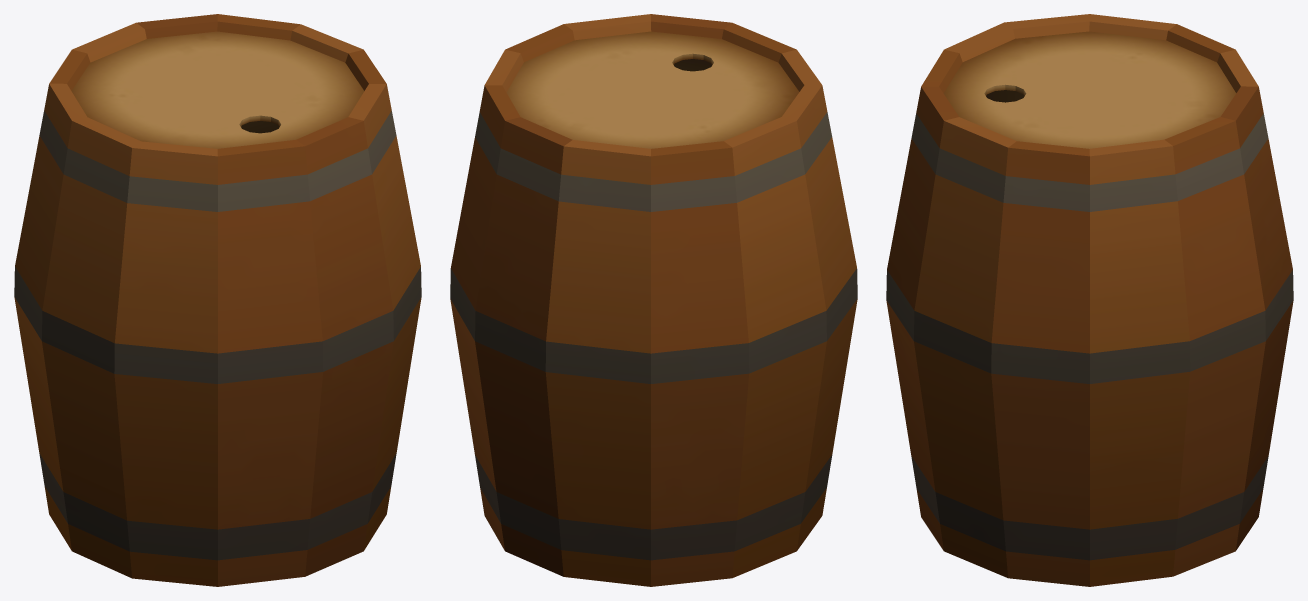
The model's file is Barrel_A.fbx.
3 views of the same model, side by side, from view 1: azimuth 30°, elevation 25°; view 2: azimuth 150°, elevation 25°; view 3: azimuth 270°, elevation 25° (orthographic).
Visible parts, largest first — view 1: Barrel_A; view 2: Barrel_A; view 3: Barrel_A.
Part boxes in pixels (<box>): Barrel_A: <box>14,14,421,586</box>; Barrel_A: <box>450,14,857,586</box>; Barrel_A: <box>886,14,1293,586</box>.
Bounding box in the file's own units: 83.55 × 83.74 × 97.67.
Materials: 1 (1 with a texture image).
